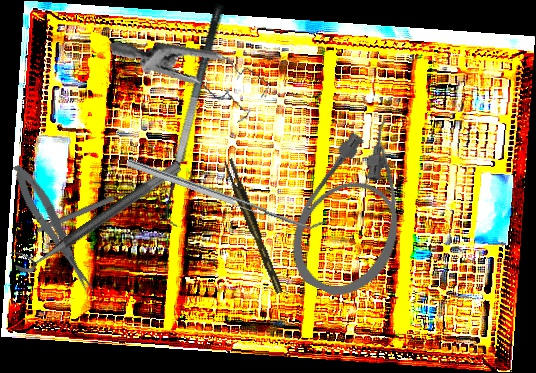Cannula: (274, 103, 444, 311)
Fixation Ring: (7, 147, 183, 279)
Micro Scissor: (7, 159, 99, 299)
Spatula Surgical: (152, 3, 243, 228), (126, 151, 325, 237)
Speculum: (109, 12, 276, 146)
Surgical Spoon: (36, 181, 148, 234)
Tissue Forceps: (223, 156, 283, 297)
